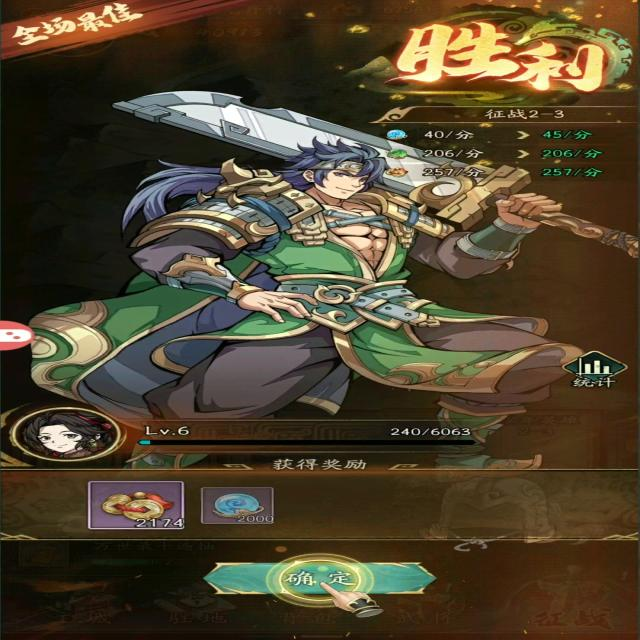hint-guide: (261, 544, 383, 616)
operation-confirm: (198, 557, 440, 600)
operation-statistics: (551, 342, 626, 392)
